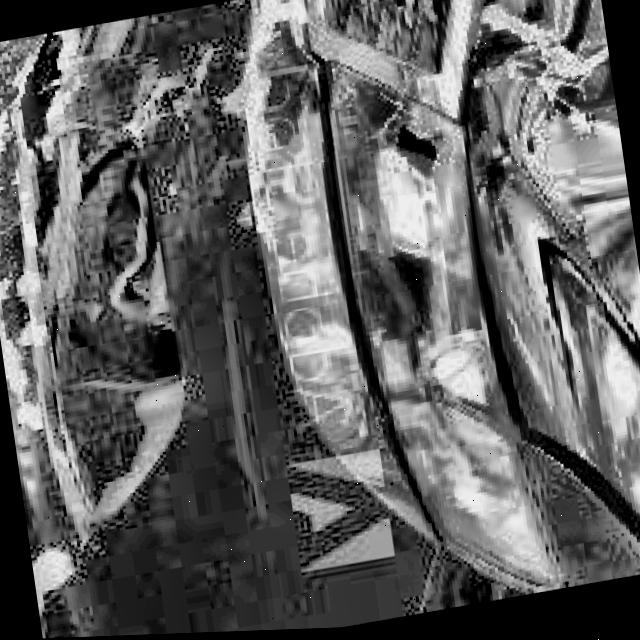head_lamp: (296, 32, 550, 593), (0, 120, 202, 498)
